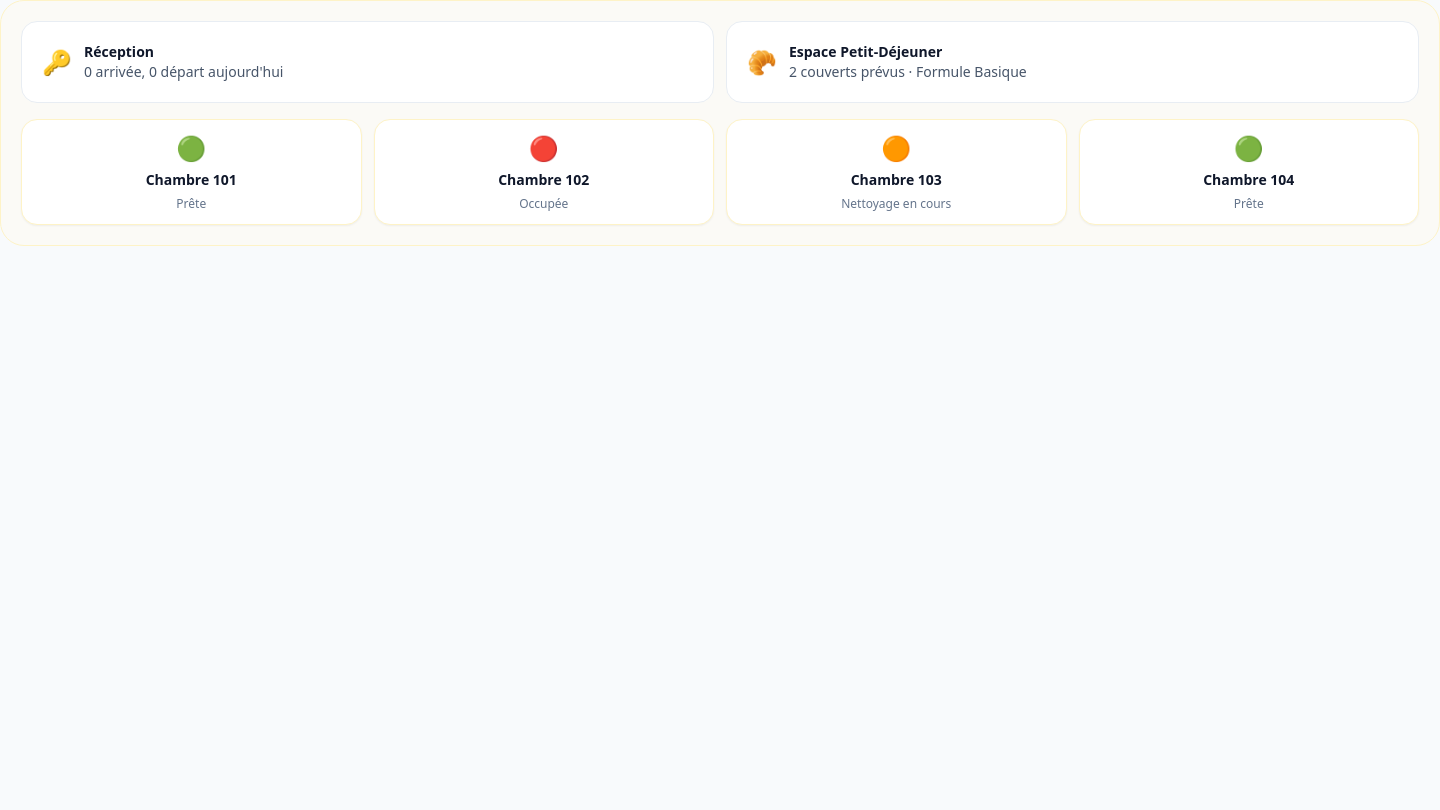
it: a room already being cleaned shows a disabled state instead of the action
Click the button with test id "schematic-starter-room-103" at (896, 172), box [726,119,1066,225]
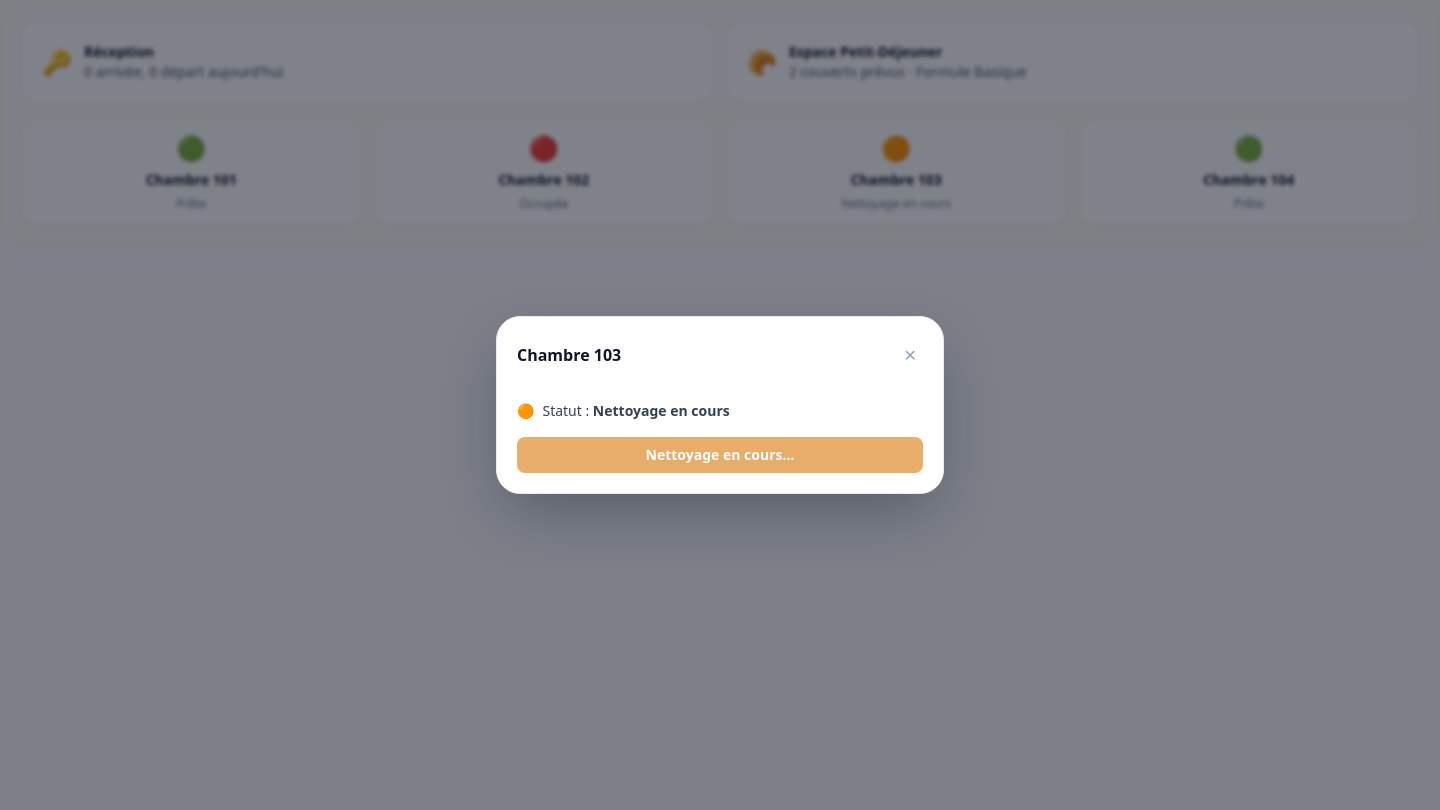
expect the button "Nettoyage en cours…" is disabled: met, box [517,437,923,473]
